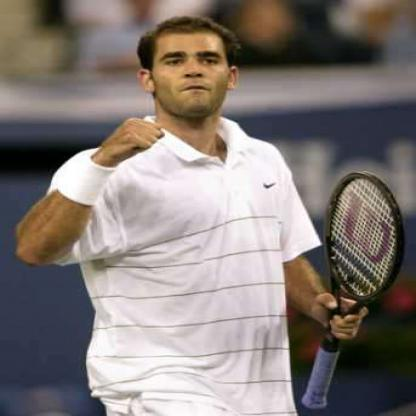face: (151, 22, 232, 120)
